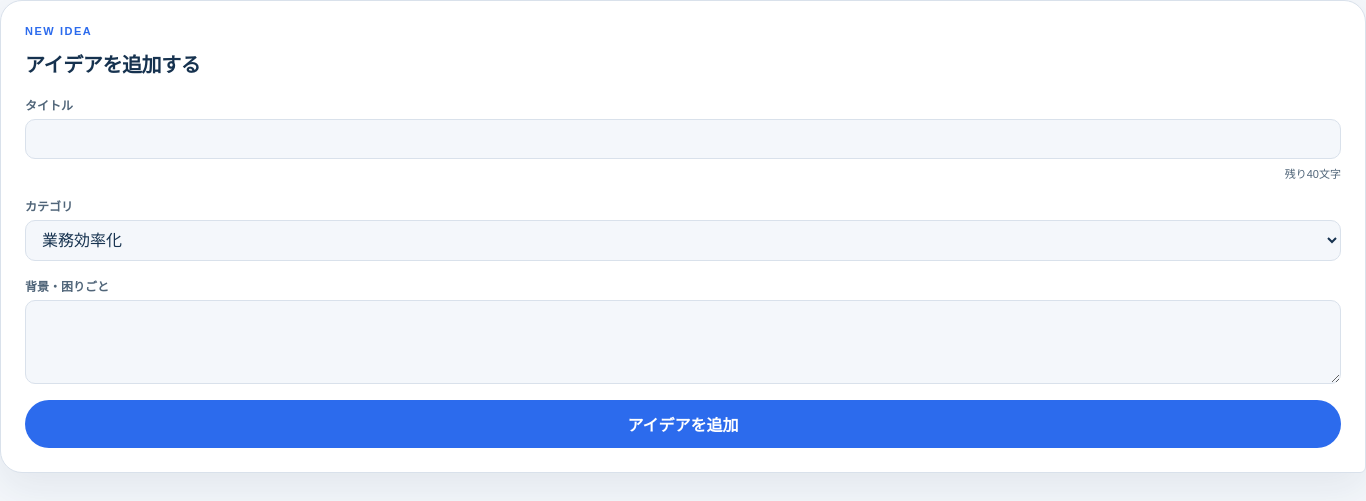
Ticket C: アイデア追加フォーム › タイトルの残り文字数を表示する
This screenshot has width=1366, height=501.
Type "改善アイデア" into the field labelled "タイトル" at point(683, 139), box [25,119,1341,159]
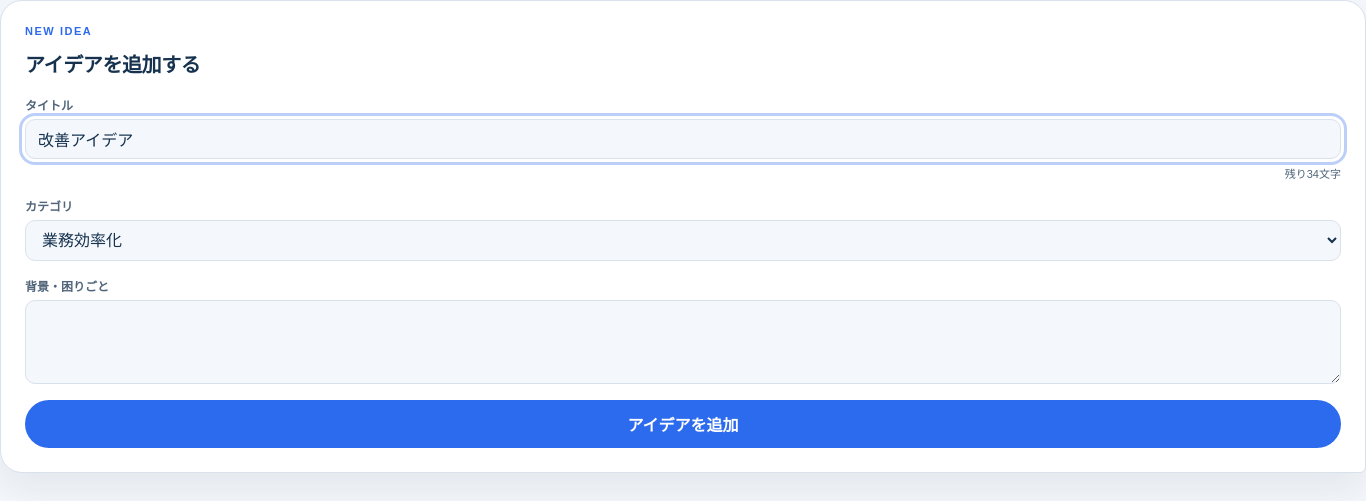
Check: the text "残り34文字" is shown, box [1285,168,1341,180]
